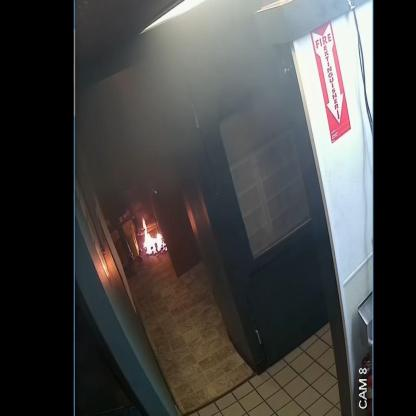fire: (142, 218, 168, 255)
